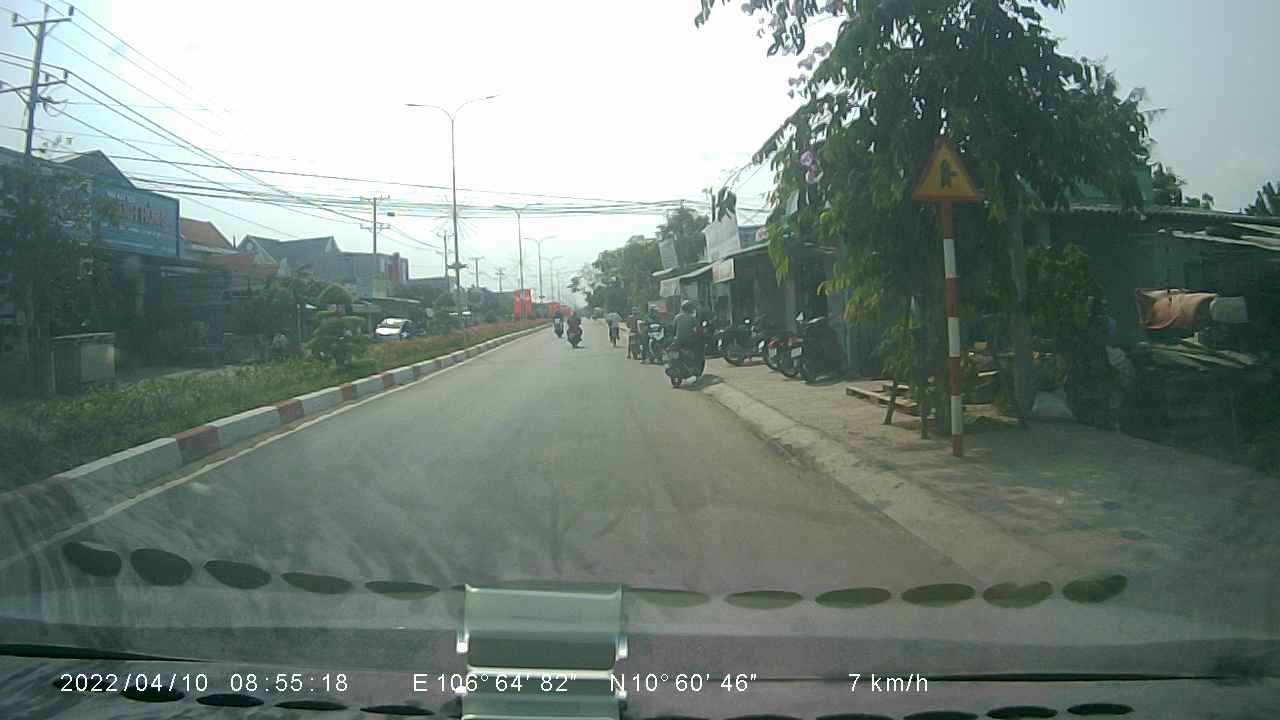Giao nhau voi duong khong uu tien: (905, 134, 983, 205)
